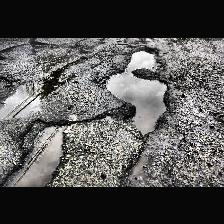pothole: (104, 44, 170, 136), (1, 117, 76, 186)
